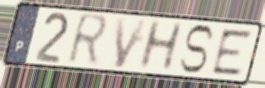2: (33, 11, 69, 65)
E: (210, 28, 255, 77)
H: (135, 18, 186, 72)
R: (64, 11, 111, 69)
S: (177, 23, 216, 76)
V: (113, 16, 150, 71)
